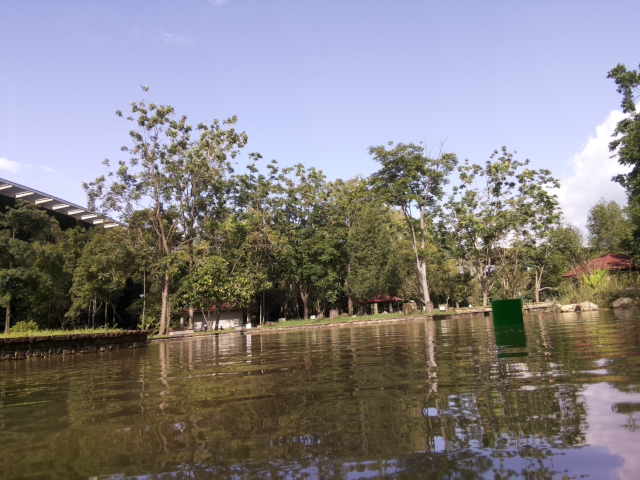obstacle: (488, 295, 526, 325)
